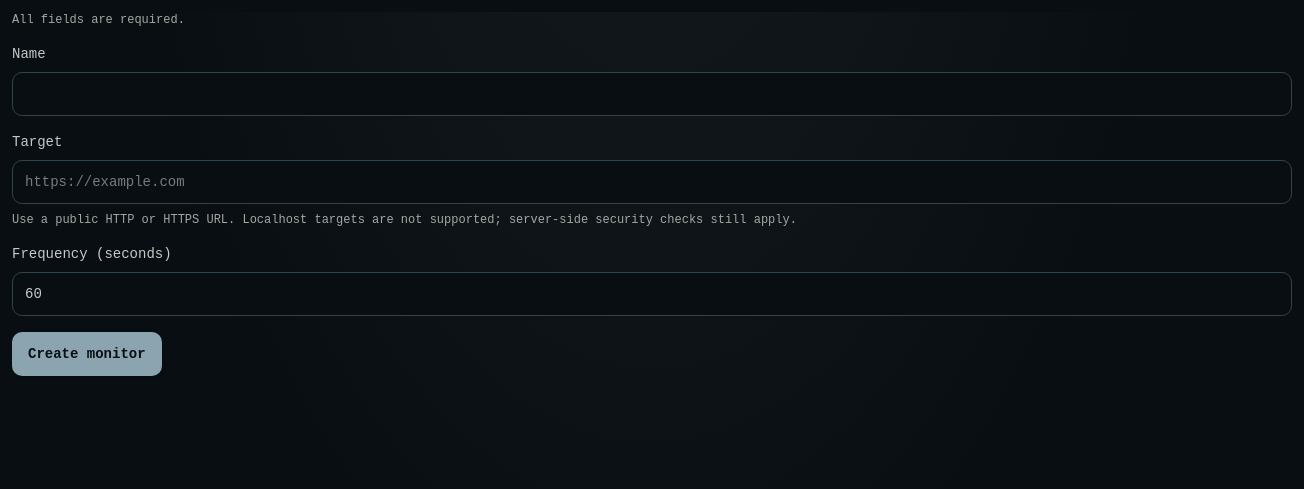
Test: CreateMonitorForm › shows required guidance and associates frequency validation errors
This screenshot has width=1304, height=489.
Check: the text "All fields are required." is shown, box [12,13,185,27]
Clear the number field labelled "Frequency (seconds)" at (652, 294), box [12,272,1292,316]
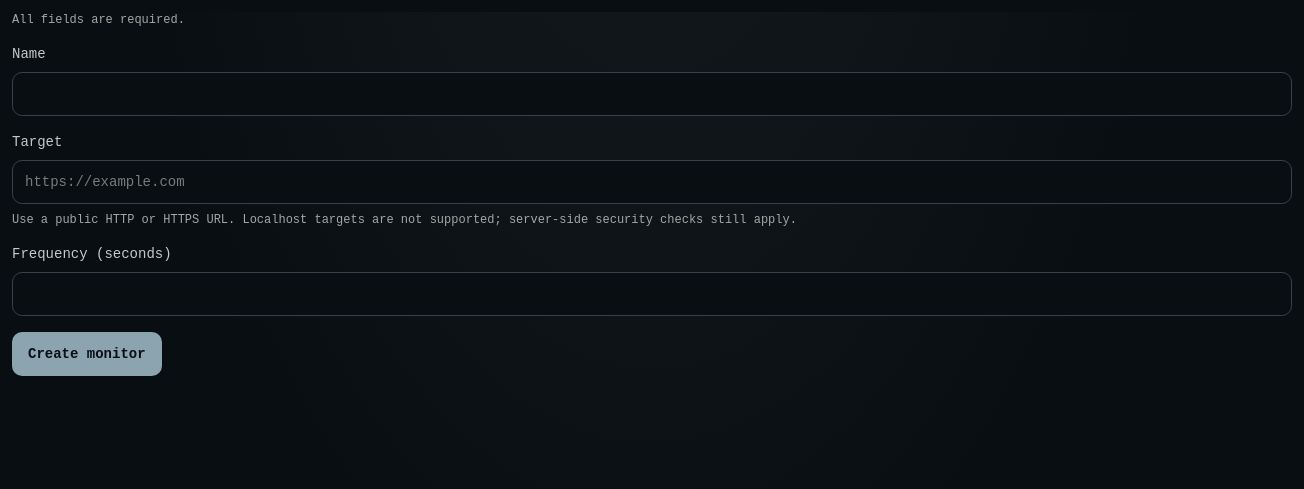
Submit the form named "Frequency (seconds)"
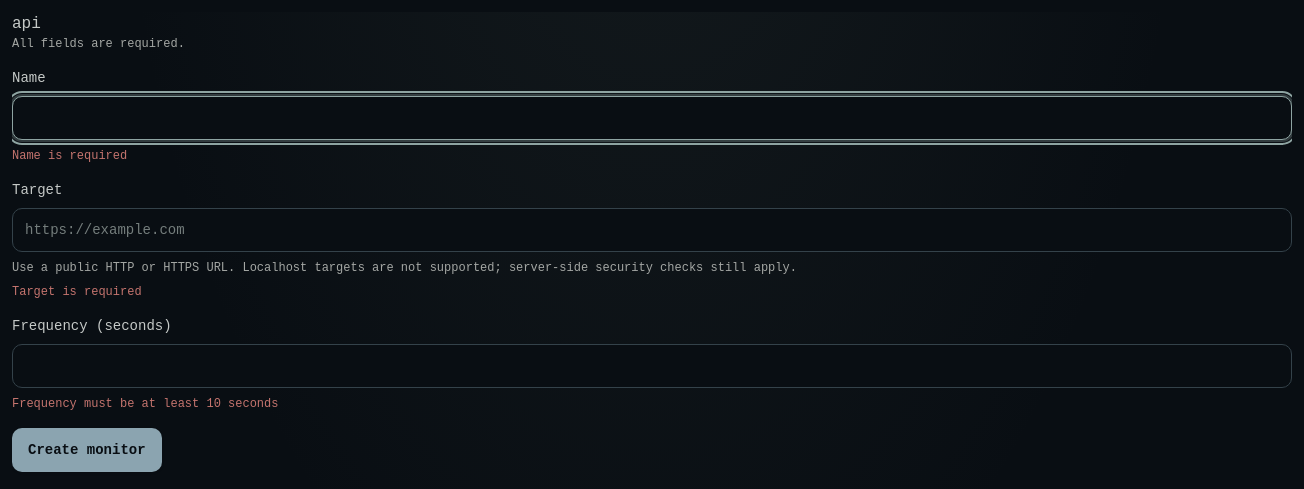
Check: the text "Frequency must be at least 10 seconds" is shown, box [12,397,278,411]
